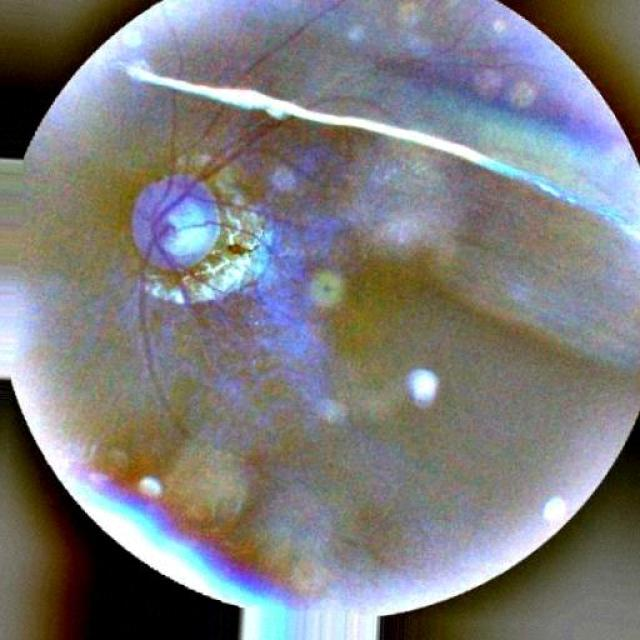Nerves: (126, 98, 309, 374)
Optic Disk: (132, 175, 219, 268)
